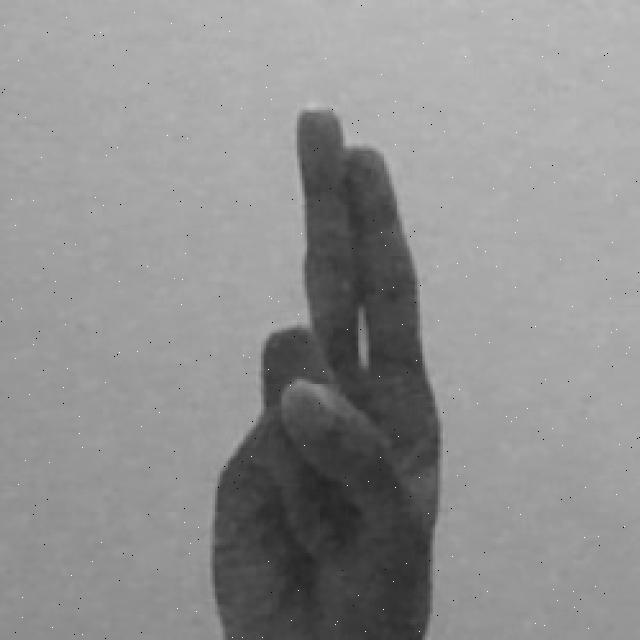U: (217, 100, 447, 640)
